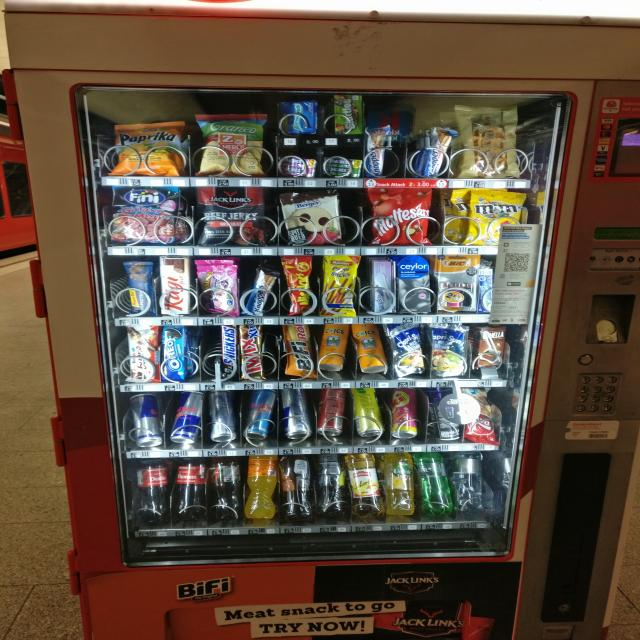7days_croissantschoko_packung_80_1_0000000000003: (458, 387, 500, 444)
airwaves_menthoneucalyptus_riegel_14_1_50173167: (282, 97, 320, 133)
bifi_roll__50__4251097402635: (282, 322, 321, 379)
bueno___43__4008400320328: (123, 325, 163, 384)
c-swiss_dosenabisicetea__33__9120025930135: (350, 323, 390, 378), (318, 322, 352, 368)
caferoyal_classicmacchiato__33__7617014164487: (424, 387, 464, 442)
caprisun_multivitamin__20__4000177605004: (432, 322, 471, 377), (391, 322, 429, 376)
coke__dose_33__54491472: (318, 388, 350, 437)
coke__flasche_50__54491472: (169, 456, 210, 517), (132, 456, 173, 516), (208, 454, 246, 514)
comella_schokodrink__33__7613100037253: (471, 324, 510, 372)
fanta___50__40822938: (240, 453, 280, 522)
fini_galaxymix_packung_100_1_8410525150364: (109, 185, 179, 243)
fini_jellykisses_packung_80_1_8410525116704: (196, 260, 239, 318)
fuse_lemon__50__5449000235947: (314, 449, 352, 518)
fuse_lemon_dose_33__5449000235947: (351, 388, 390, 440)
fuse_peach__50__5449000236623: (278, 454, 318, 522)
jacklinks_beefjerkyorginal__25__4047751730219: (196, 185, 271, 247)
jlbrichard_gauffre__90__5410495002000: (457, 108, 520, 177)
kagi___50__7610046000259: (156, 255, 192, 314)
knoppers_riegel____4035800488808: (421, 122, 457, 176), (243, 264, 279, 312), (363, 124, 392, 179)
lorenz_nicnacs__40__4018077798818: (282, 256, 318, 315)
malburner_partysticks__40__7610200279682: (320, 252, 358, 314)
maltesers___100__5000159023061: (366, 186, 436, 244)
mnms_gelb__45__40111445: (464, 188, 528, 246)
oreo___66__84100733: (158, 326, 190, 380)
powerbar_proteinplusschoko__55__4029679520028: (125, 258, 156, 316)
ramseier_schorle__50__7610057012456: (343, 450, 386, 517)
redbull___33__90162909: (164, 388, 208, 445), (238, 389, 280, 438), (280, 387, 316, 439), (129, 393, 164, 445), (207, 390, 237, 439)
skittles_sour_riegel_51_1_0000000000004: (330, 94, 363, 134)
snickers___50__5000159461122: (215, 323, 243, 378)
stimorol_spearmint_riegel_14_1_0000000000005: (322, 156, 362, 177)
stimorol_wildcherry_riegel_14_1_57060330: (280, 155, 318, 177)
tiki_himbeer_brause__50__00000000009342: (389, 388, 421, 438)
twix___50__5000159459228: (236, 322, 269, 381)
valser_classic__50__76404160: (413, 451, 457, 516)
valser_still__50__7610335002575: (454, 451, 486, 511)
volvic_pinapple__50__305764335648: (378, 452, 416, 519)
zweifel_graneochilli__100__7610095184009: (194, 111, 267, 176)
zweifel_paprika__90__7610095013002: (114, 118, 188, 175)
